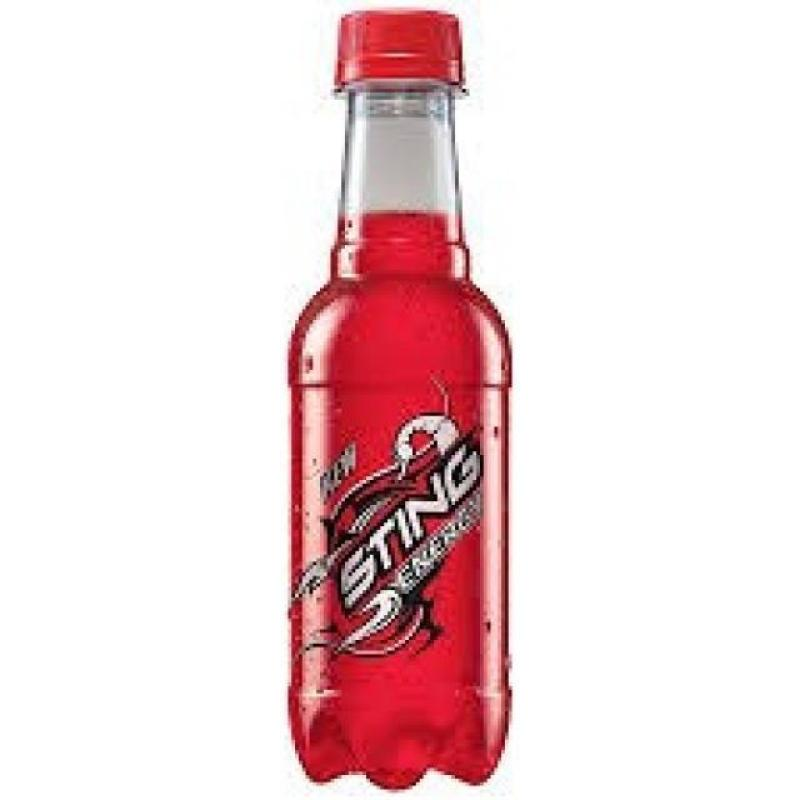botella: (288, 3, 520, 789)
